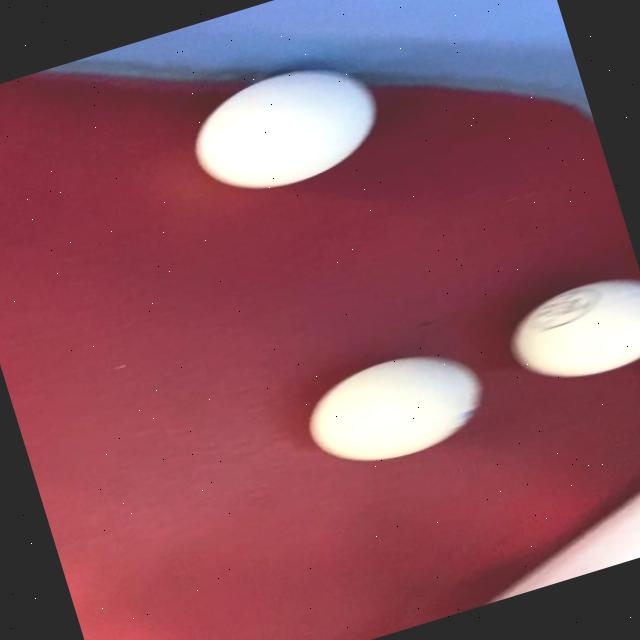ping-pong-ball: (176, 44, 395, 212), (291, 334, 496, 484), (494, 262, 640, 401)
